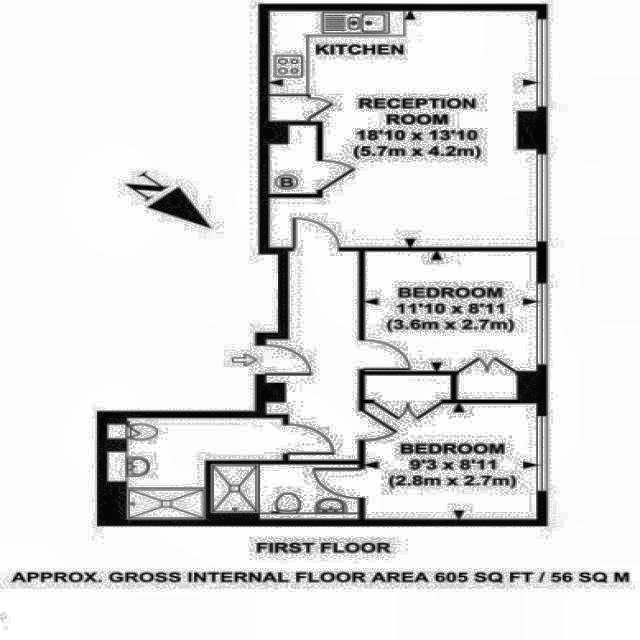room: (267, 11, 537, 249), (366, 251, 536, 371), (367, 403, 535, 519), (127, 419, 282, 518), (289, 254, 357, 460), (210, 465, 358, 519), (269, 125, 317, 194), (365, 376, 451, 399), (458, 376, 517, 399)
